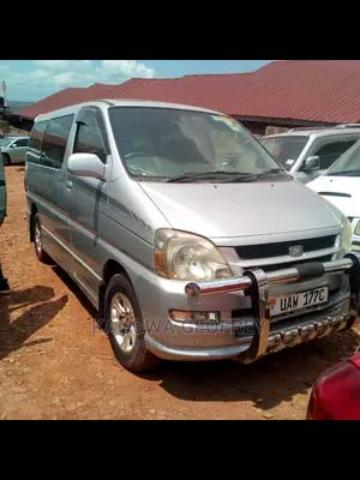van: (24, 98, 356, 367)
